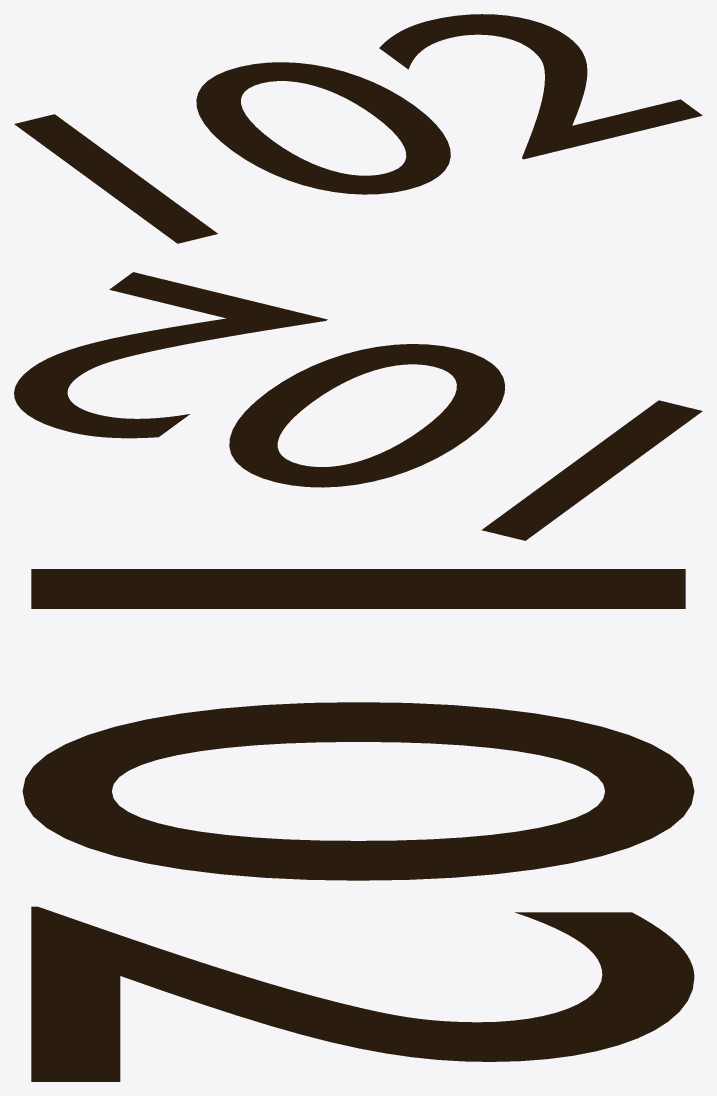
The model's file is MOD_Numeros(102).fbx.
3 renders of one model, top to bottom at view 1: azimuth 30°, elevation 25°; view 2: azimuth 150°, elevation 25°; view 3: azimuth 270°, elevation 25°, orthographic. The views are drawn at different scales.
Parts seen in each view (by area): view 1: Text.001; view 2: Text.001; view 3: Text.001.
Part boxes in pixels (x1=…): Text.001: x1=14, y1=14, x2=702, y2=243; Text.001: x1=14, y1=272, x2=702, y2=540; Text.001: x1=22, y1=569, x2=694, y2=1081.
Size of the model in its own units: 126 by 1.14e-05 by 70.
